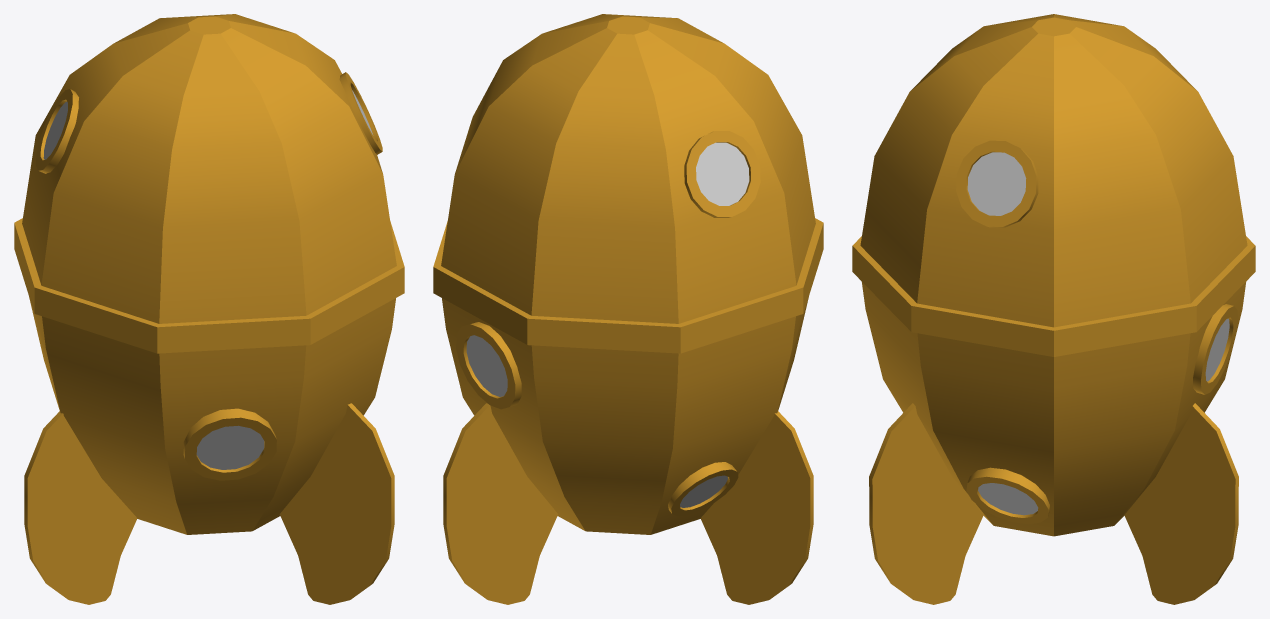
The model's file is ToyRocketShip.fbx.
3 renders of one model, left to right at view 1: azimuth 30°, elevation 25°; view 2: azimuth 150°, elevation 25°; view 3: azimuth 270°, elevation 25°, orthographic.
Visible parts, largest first — view 1: ShipBody; view 2: ShipBody; view 3: ShipBody.
Part boxes in pixels (x1,y1,x2,y2): ShipBody: [14, 14, 404, 604]; ShipBody: [433, 14, 823, 604]; ShipBody: [852, 14, 1255, 604].
Bounding box in the file's own units: 493 × 720 × 481.
